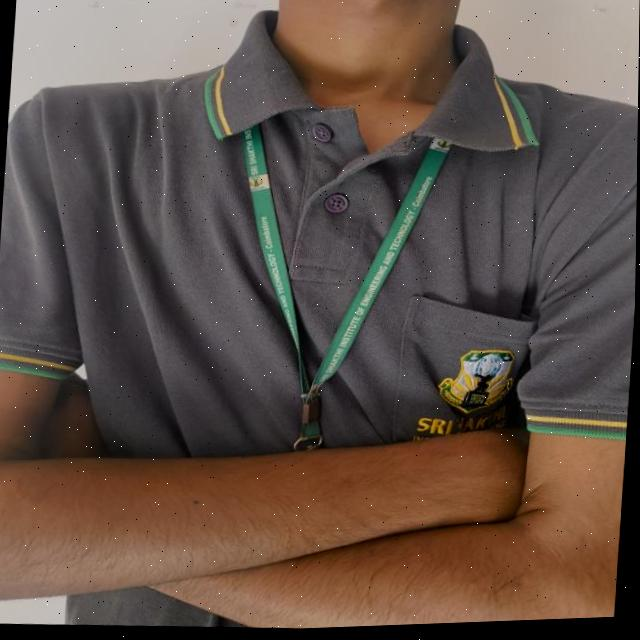id_card: (198, 95, 474, 474)
